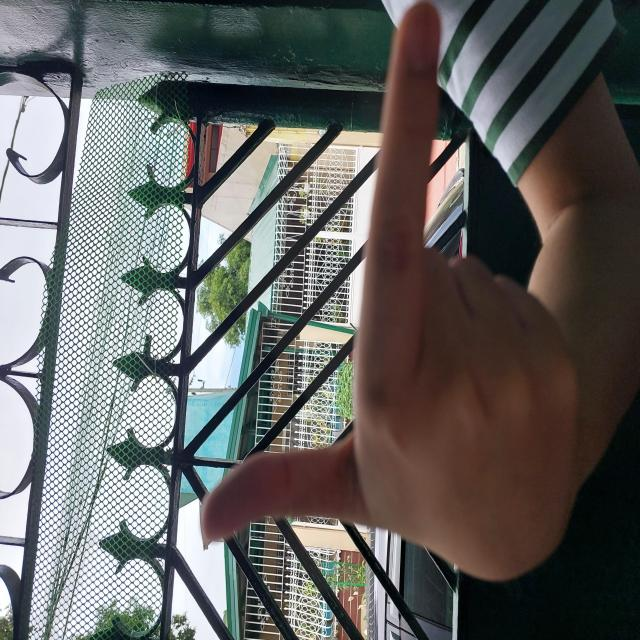G: (53, 196, 640, 581)
